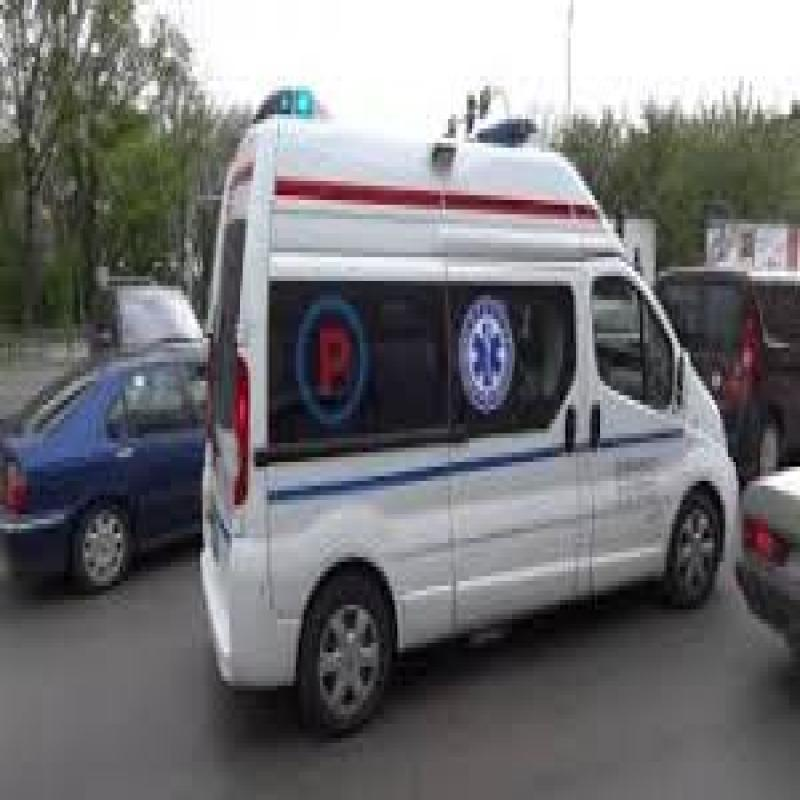ambulance: (191, 41, 767, 752)
